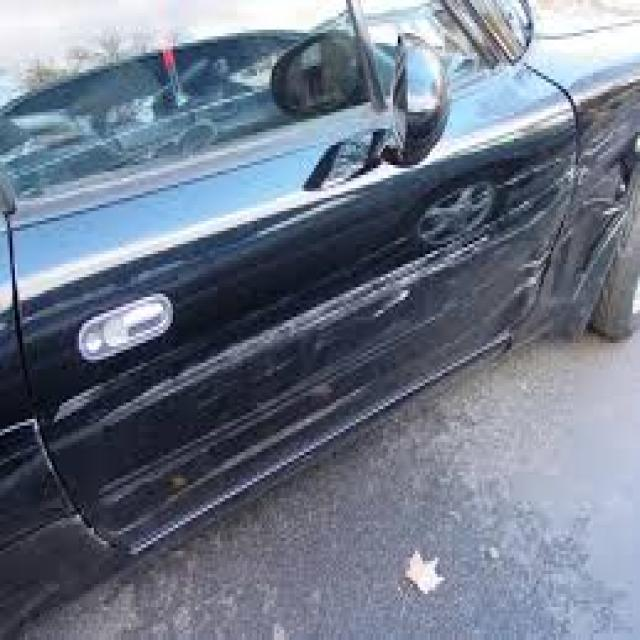minor: (20, 79, 640, 373)
